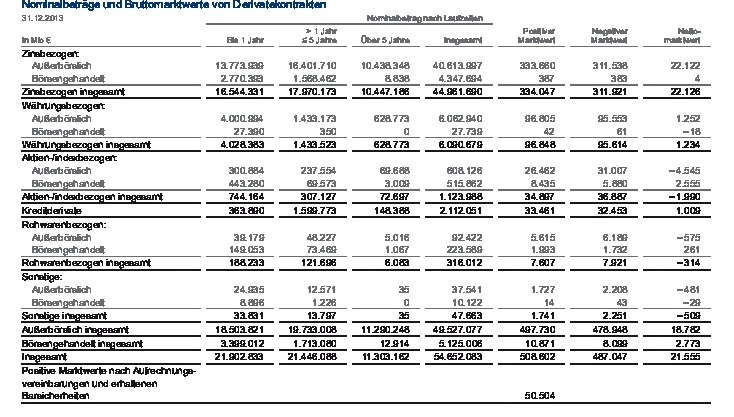table: (0, 0, 734, 417)
